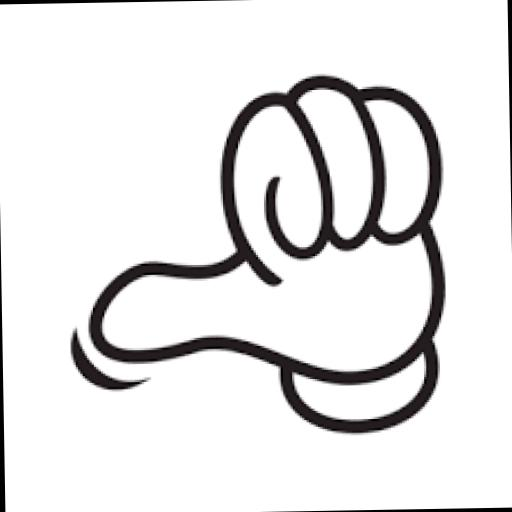Thumbs_Down: (46, 56, 471, 470)
